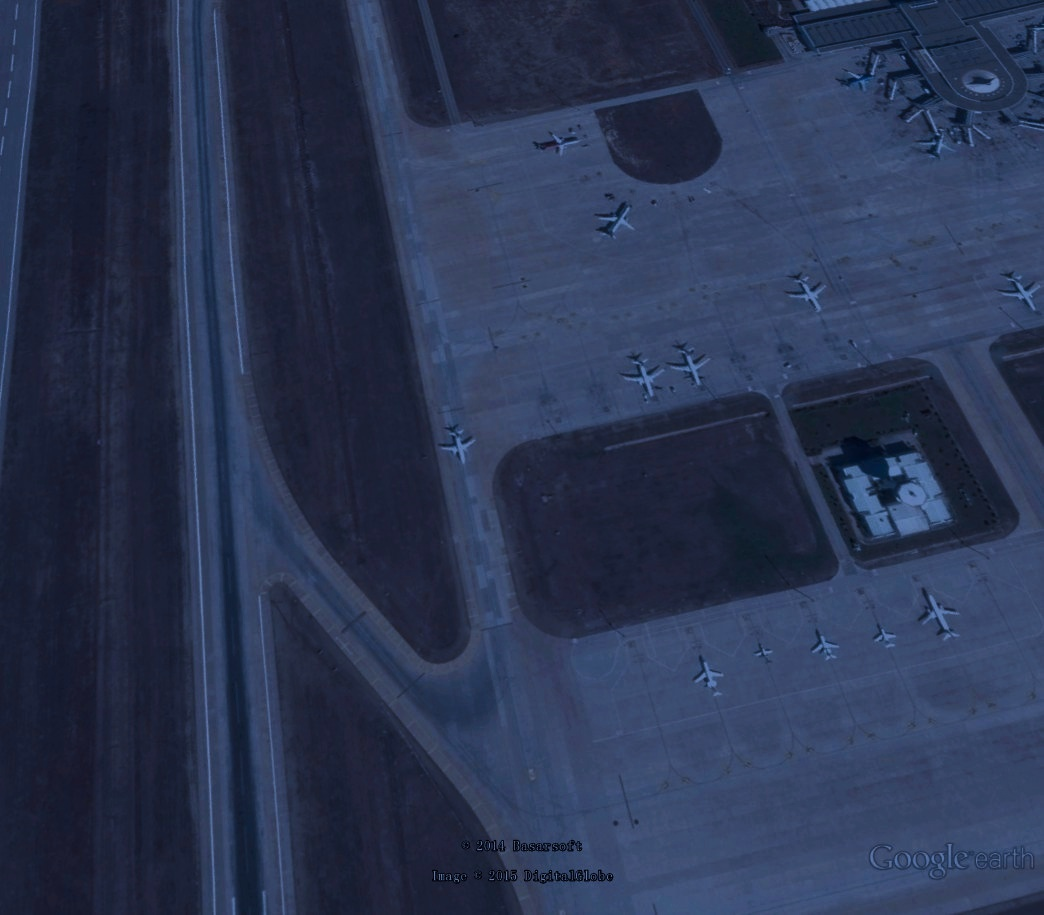aircraft: (916, 586, 966, 643), (616, 354, 669, 403), (664, 343, 712, 390), (993, 271, 1041, 316), (591, 202, 642, 244), (784, 271, 831, 316), (688, 654, 730, 700), (534, 127, 586, 162), (436, 426, 478, 466), (913, 129, 960, 163), (832, 66, 882, 96), (808, 628, 844, 666), (871, 622, 900, 652), (753, 640, 780, 670)
